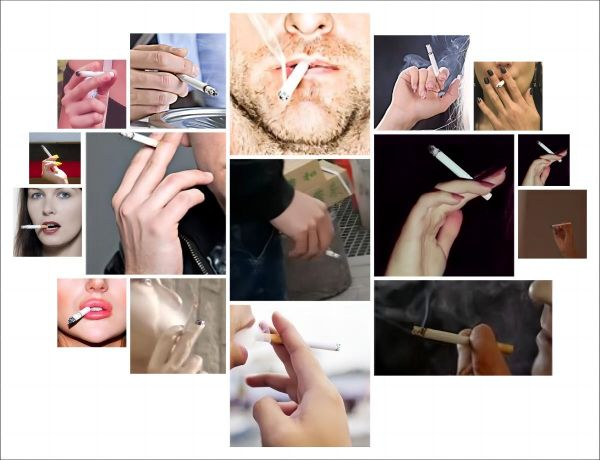smoke: (426, 143, 496, 202), (409, 325, 518, 354), (279, 56, 319, 104), (259, 331, 344, 353), (425, 43, 447, 93), (179, 73, 218, 97), (127, 130, 166, 151), (536, 139, 566, 164), (40, 140, 61, 174), (68, 304, 95, 328), (76, 69, 109, 79), (20, 223, 50, 232), (496, 79, 508, 90)
